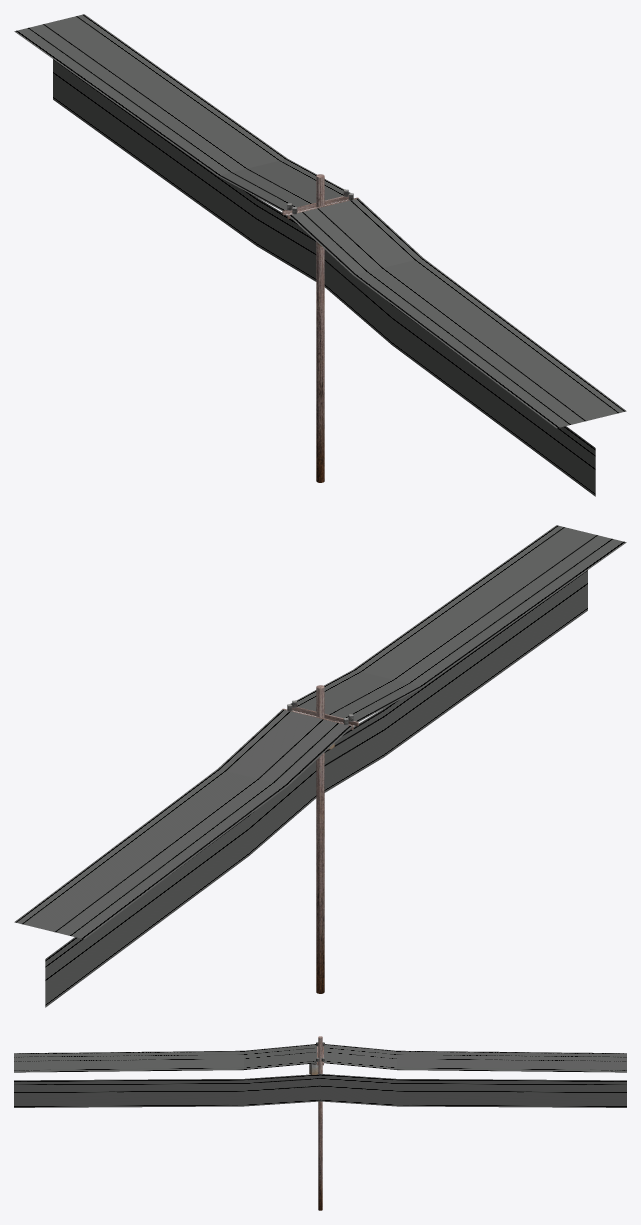
Rendered from tpole40_1b.fbx.
3 views of the same model, one above another, from view 1: azimuth 30°, elevation 25°; view 2: azimuth 150°, elevation 25°; view 3: azimuth 270°, elevation 25° (orthographic). The views are drawn at different scales.
Parts seen in each view (by area): view 1: mesh_0; view 2: mesh_0; view 3: mesh_0.
Boxes of the visible parts, bbox=[...] form: mesh_0: bbox=[14, 14, 626, 496]; mesh_0: bbox=[14, 525, 626, 1007]; mesh_0: bbox=[14, 1036, 626, 1210].
Bounding box in the file's own units: 300 × 1242 × 4000.
1 material, 1 textured.
